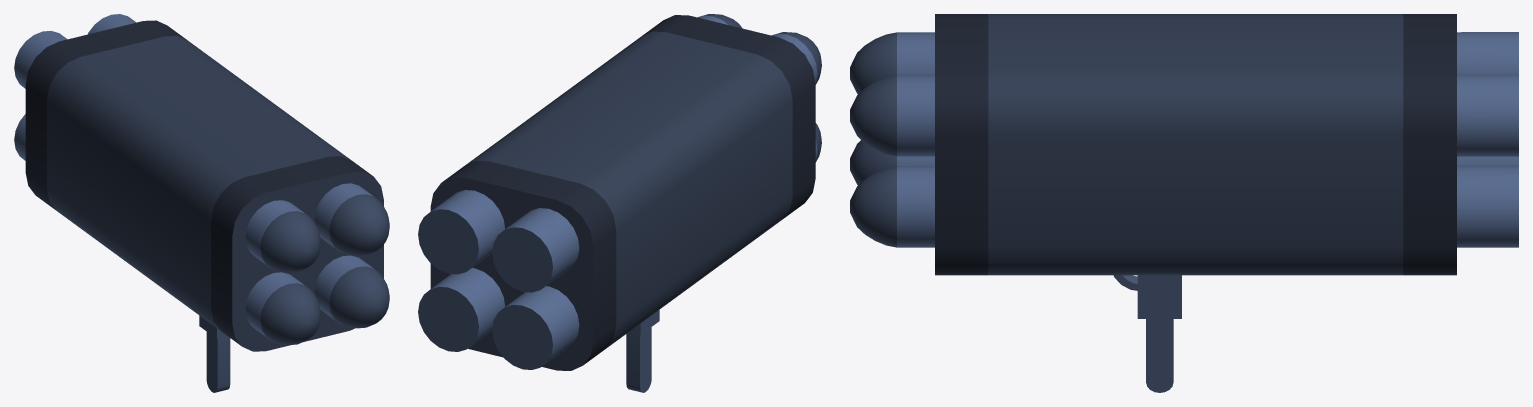
Rendered from Mine launcher.fbx.
3 renders of one model, left to right at view 1: azimuth 30°, elevation 25°; view 2: azimuth 150°, elevation 25°; view 3: azimuth 270°, elevation 25°, orthographic. The views are drawn at different scales.
Visible parts, largest first — view 1: Mine Launcher, Mine Launcher.001, Mine Launcher.002, Mine Launcher.003, Mine Launcher.004; view 2: Mine Launcher, Mine Launcher.001, Mine Launcher.002, Mine Launcher.003, Mine Launcher.004; view 3: Mine Launcher, Mine Launcher.002, Mine Launcher.004, Mine Launcher.001, Mine Launcher.003.
Part boxes in pixels (left/top/right/bottom): Mine Launcher: left=25, top=20, right=383, bottom=392; Mine Launcher.001: left=14, top=31, right=320, bottom=272; Mine Launcher.002: left=87, top=14, right=389, bottom=256; Mine Launcher.003: left=14, top=114, right=320, bottom=345; Mine Launcher.004: left=314, top=255, right=389, bottom=328; Mine Launcher: left=430, top=15, right=815, bottom=392; Mine Launcher.001: left=492, top=32, right=821, bottom=292; Mine Launcher.002: left=418, top=14, right=742, bottom=274; Mine Launcher.003: left=492, top=123, right=821, bottom=369; Mine Launcher.004: left=418, top=268, right=505, bottom=351; Mine Launcher: left=935, top=14, right=1456, bottom=392; Mine Launcher.002: left=850, top=74, right=1518, bottom=156; Mine Launcher.004: left=850, top=165, right=1518, bottom=247; Mine Launcher.001: left=850, top=32, right=1518, bottom=93; Mine Launcher.003: left=850, top=140, right=1518, bottom=184.
Bounding box in the file's own units: 0.5583 × 0.9617 × 1.69.
